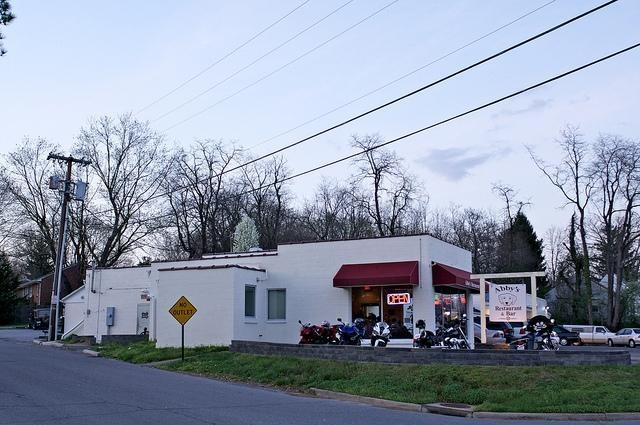car: (474, 322, 507, 344), (606, 327, 640, 348), (554, 326, 582, 346), (28, 308, 50, 330), (534, 330, 560, 345), (512, 322, 529, 339)
motorcycle: (414, 314, 472, 349), (516, 316, 558, 351), (298, 320, 340, 345), (333, 324, 362, 344), (369, 322, 392, 347)
truck: (564, 326, 612, 346)
